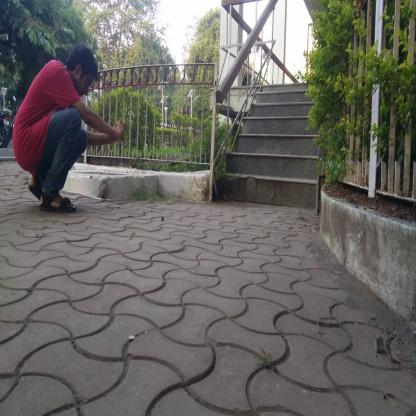stairs: (238, 134, 307, 212)
